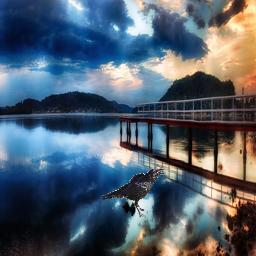Crow: (101, 168, 165, 218)
